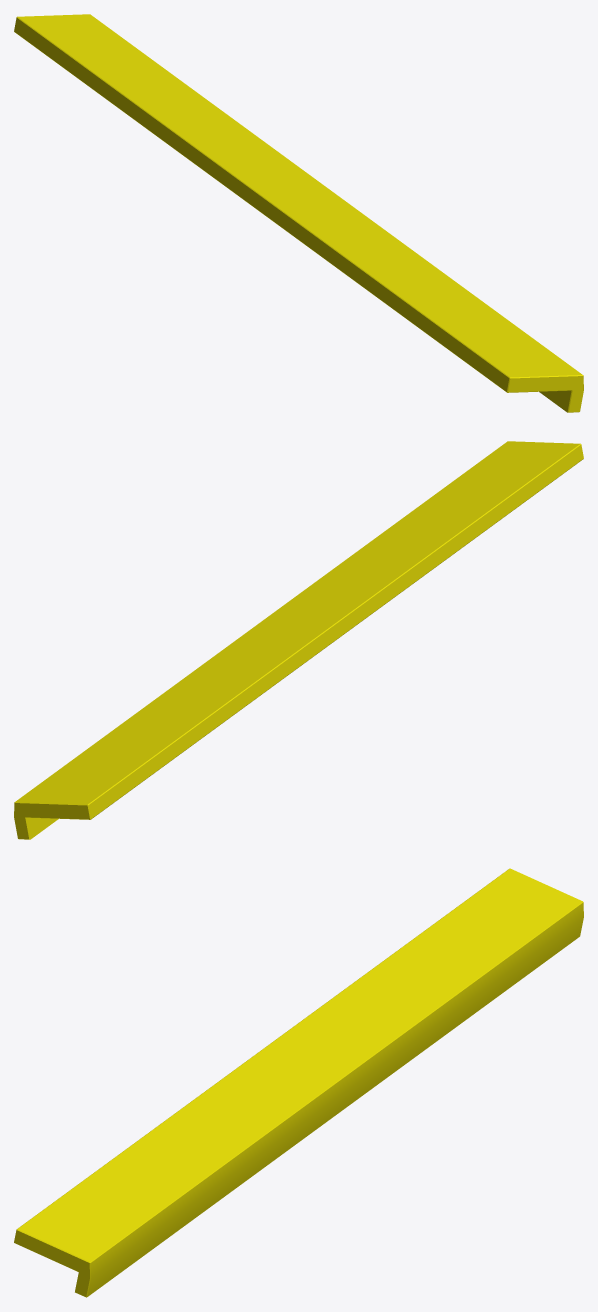
Rendered from Wide_Edge_Metal_Front.fbx.
3 renders of one model, top to bottom at view 1: azimuth 30°, elevation 25°; view 2: azimuth 150°, elevation 25°; view 3: azimuth 330°, elevation 25°, orthographic.
Visible parts, largest first — view 1: Wide_Edge_Metal_Front; view 2: Wide_Edge_Metal_Front; view 3: Wide_Edge_Metal_Front.
Boxes of the visible parts, x1,y1,x2,y2 form: Wide_Edge_Metal_Front: (14,14,583,412); Wide_Edge_Metal_Front: (14,441,583,839); Wide_Edge_Metal_Front: (14,868,583,1297).
Size of the model in its own units: 6.72 by 4.3 by 74.47.
